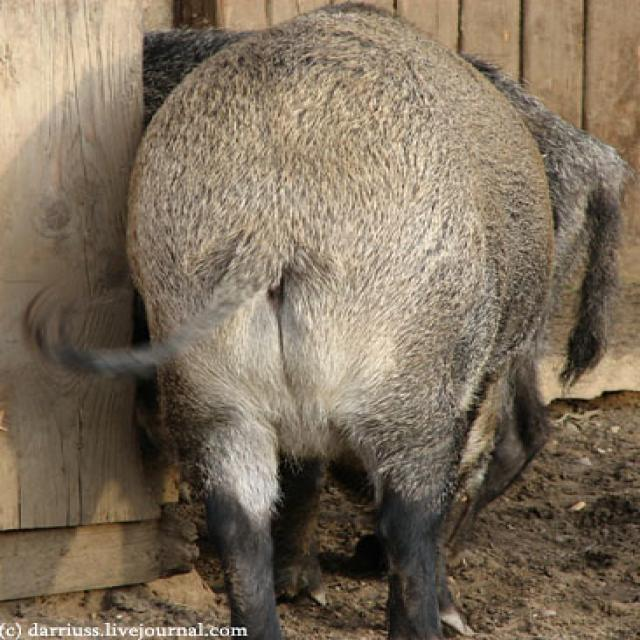boar: (18, 0, 576, 640)
